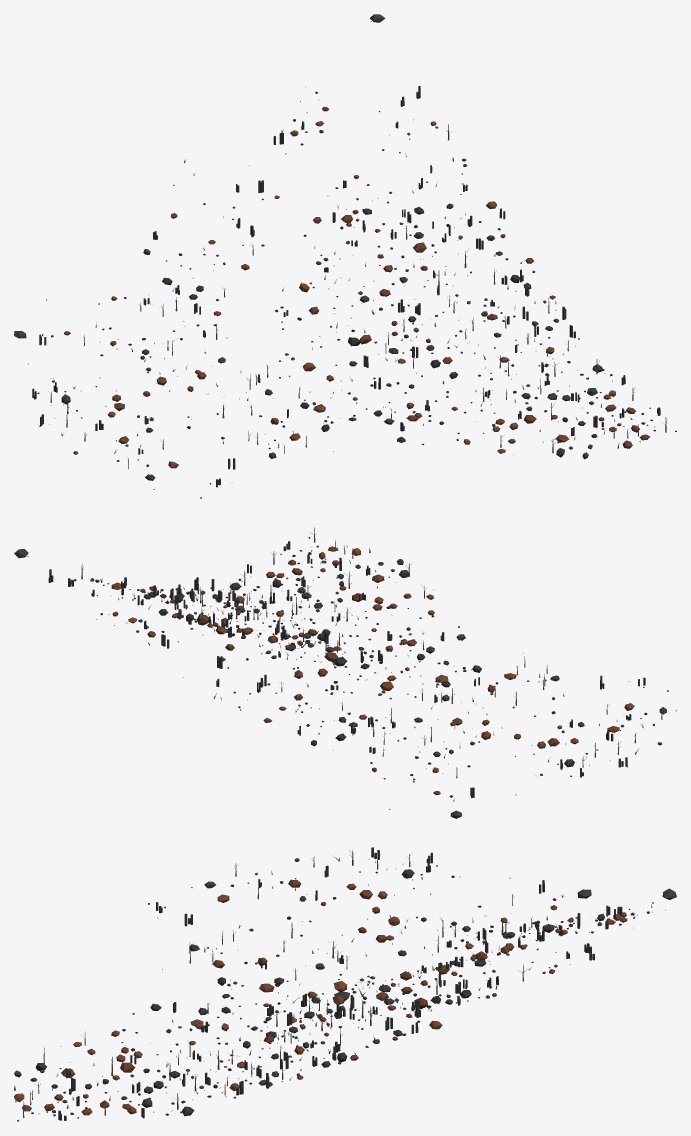
Rendered from ash_land_scatter_c20_29_lod1.glb.
3 renders of one model, top to bottom at view 1: azimuth 30°, elevation 25°; view 2: azimuth 150°, elevation 25°; view 3: azimuth 270°, elevation 25°, orthographic. The views are drawn at different scales.
Visible parts, largest first — view 1: ash_land_scatter_c20_29_lod1; view 2: ash_land_scatter_c20_29_lod1; view 3: ash_land_scatter_c20_29_lod1.
Boxes of the visible parts, x1=… form: ash_land_scatter_c20_29_lod1: x1=14, y1=14, x2=676, y2=498; ash_land_scatter_c20_29_lod1: x1=14, y1=527, x2=676, y2=818; ash_land_scatter_c20_29_lod1: x1=14, y1=847, x2=676, y2=1121.
Size of the model in its own units: 242 by 101 by 257.
